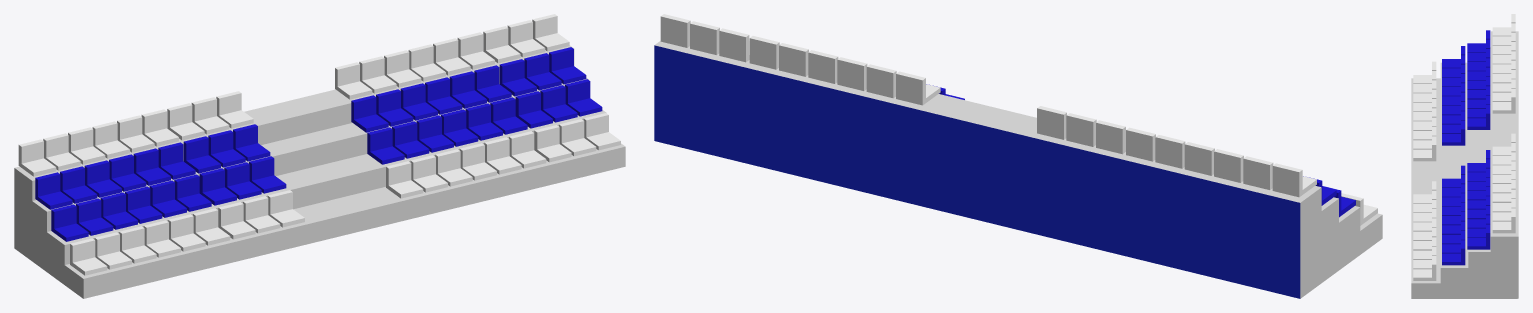
File: tribuna low.fbx
3 renders of one model, left to right at view 1: azimuth 30°, elevation 25°; view 2: azimuth 150°, elevation 25°; view 3: azimuth 270°, elevation 25°, orthographic. The views are drawn at different scales.
Visible parts, largest first — view 1: Cube, Cube.001, tribuna s.003; view 2: tribuna s.003, Cube, Cube.001; view 3: tribuna s.003, Cube, Cube.001.
Part boxes in pixels (left/top/right/bottom): Cube: left=18, top=14, right=620, bottom=275; Cube.001: left=35, top=47, right=602, bottom=241; tribuna s.003: left=14, top=45, right=625, bottom=298; tribuna s.003: left=654, top=41, right=1382, bottom=298; Cube: left=660, top=14, right=1377, bottom=225; Cube.001: left=926, top=84, right=1355, bottom=217; tribuna s.003: left=1411, top=31, right=1518, bottom=298; Cube: left=1413, top=14, right=1515, bottom=280; Cube.001: left=1442, top=30, right=1490, bottom=265.
Bounding box in the file's own units: 2803 × 516 × 619.
